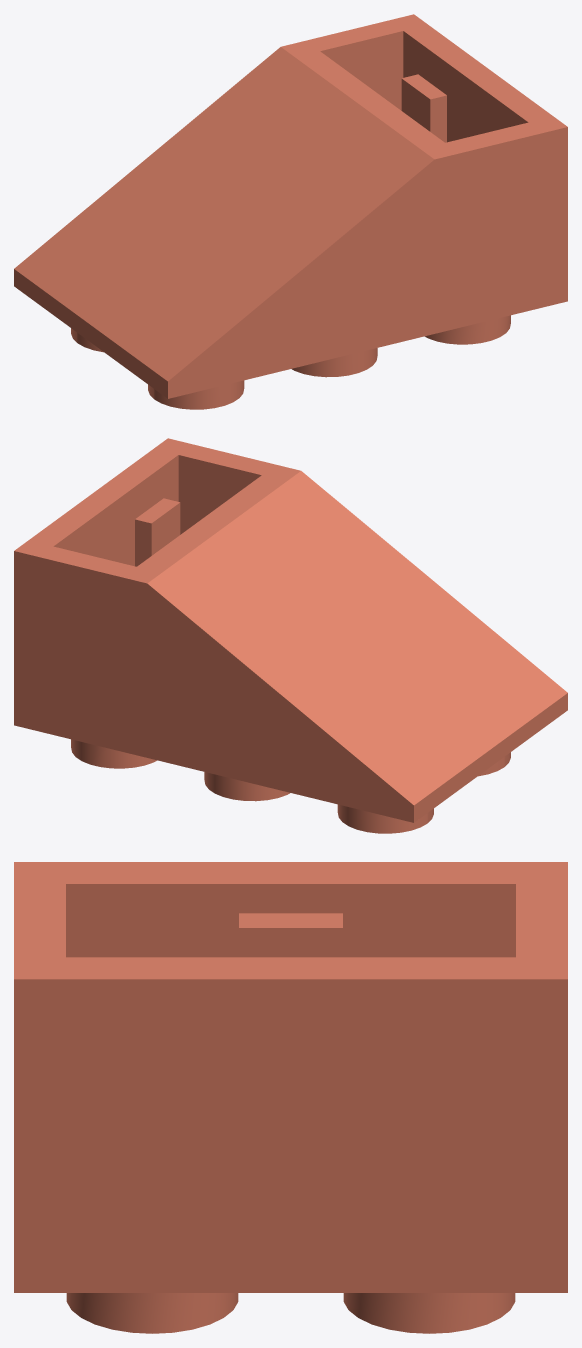
3 renders of one model, top to bottom at view 1: azimuth 30°, elevation 25°; view 2: azimuth 150°, elevation 25°; view 3: azimuth 270°, elevation 25°, orthographic. The views are drawn at different scales.
Visible parts, largest first — view 1: [pivoted]; view 2: [pivoted]; view 3: [pivoted].
Boxes of the visible parts, box(x1,y1,x2,y2) form: [pivoted]: box(14, 14, 567, 409); [pivoted]: box(14, 438, 567, 833); [pivoted]: box(14, 862, 567, 1333).
Bounding box in the file's own units: 2.4 × 1.2 × 1.6.
